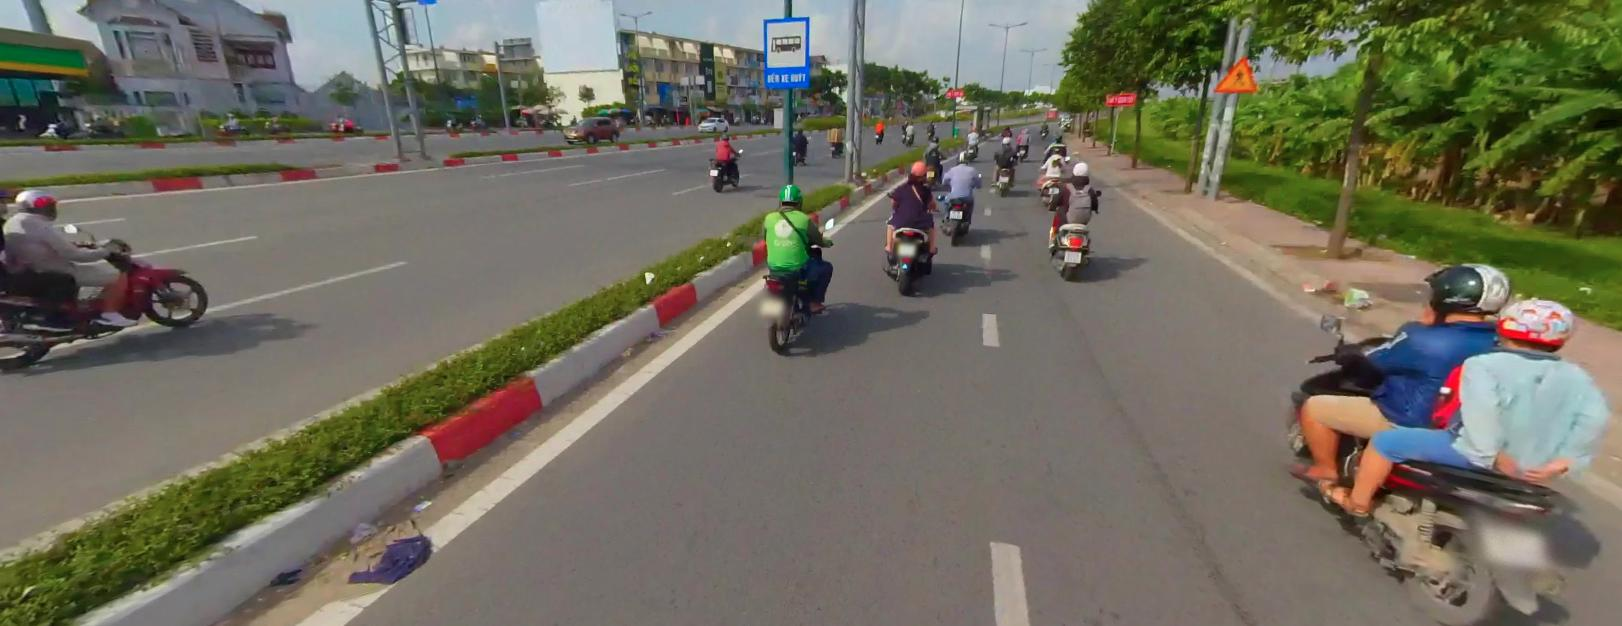Nguy hiem: (1215, 56, 1256, 92)
